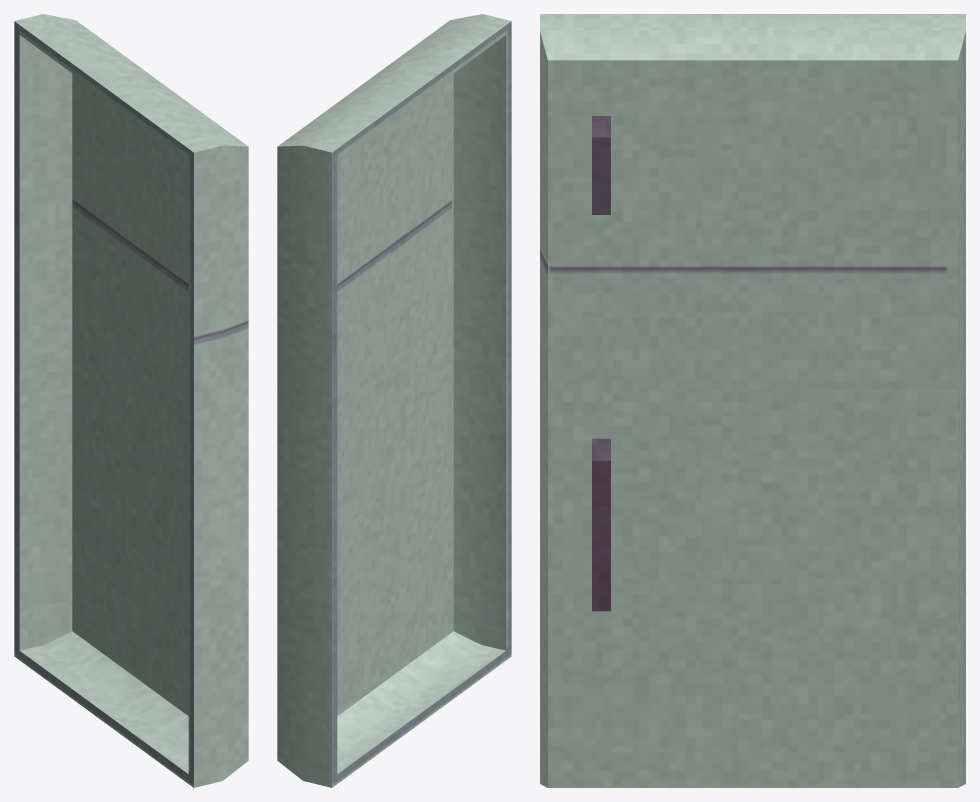
The model's file is Fridge_Door.fbx.
3 views of the same model, side by side, from view 1: azimuth 30°, elevation 25°; view 2: azimuth 150°, elevation 25°; view 3: azimuth 270°, elevation 25° (orthographic). The views are drawn at different scales.
Parts seen in each view (by area): view 1: Fridge_Door; view 2: Fridge_Door; view 3: Fridge_Door.
Part boxes in pixels (left/top/right/bottom): Fridge_Door: left=14, top=14, right=248, bottom=787; Fridge_Door: left=277, top=14, right=511, bottom=787; Fridge_Door: left=540, top=14, right=965, bottom=787.
Bounding box in the file's own units: 79.82 × 638 × 327.
